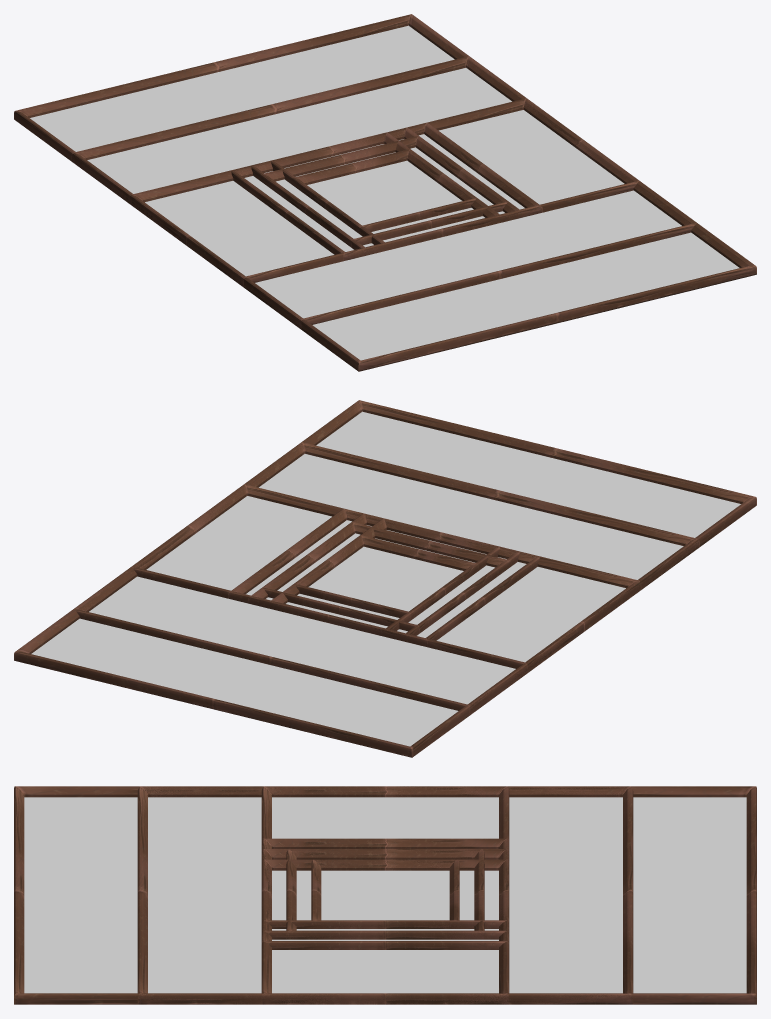
The model's file is Frames.fbx.
The picture shows the model from 3 angles, top to bottom: view 1: azimuth 30°, elevation 25°; view 2: azimuth 150°, elevation 25°; view 3: azimuth 270°, elevation 25°; orthographic projection. The views are drawn at different scales.
Parts seen in each view (by area): view 1: Image_7, Image_8, Image_6, Frame_Wooden_8, Frame_Wooden_7, Frame_Wooden_6, Frame_Wooden_1, Frame_Wooden_4, Frame_Wooden_5, Frame_Wooden_2, Frame_Wooden_3, Image_4 (+1 smaller); view 2: Image_8, Image_7, Image_6, Frame_Wooden_8, Frame_Wooden_7, Frame_Wooden_6, Frame_Wooden_1, Image_5, Frame_Wooden_4, Frame_Wooden_2, Frame_Wooden_5, Frame_Wooden_3; view 3: Image_8, Image_7, Frame_Wooden_8, Frame_Wooden_7, Image_6, Frame_Wooden_6, Frame_Wooden_1, Frame_Wooden_2, Frame_Wooden_3, Image_5, Frame_Wooden_4, Image_3 (+2 smaller).
Part boxes in pixels (x1,y1,x2,y2): Image_7: (91,68,681,318); Image_8: (30,25,739,360); Image_6: (158,110,624,276); Frame_Wooden_8: (14,14,756,371); Frame_Wooden_7: (71,56,696,329); Frame_Wooden_6: (129,98,639,287); Frame_Wooden_1: (231,122,542,261); Frame_Wooden_4: (260,136,508,247); Frame_Wooden_5: (291,149,477,234); Frame_Wooden_2: (251,127,521,255); Frame_Wooden_3: (271,132,500,244); Image_4: (276,148,493,234); Image_8: (31,411,740,746); Image_7: (89,454,683,702); Image_6: (151,496,625,662); Frame_Wooden_8: (14,400,756,757); Frame_Wooden_7: (74,442,699,714); Frame_Wooden_6: (131,484,641,672); Frame_Wooden_1: (228,508,539,647); Image_5: (310,547,463,611); Frame_Wooden_4: (263,522,510,633); Frame_Wooden_2: (248,513,519,642); Frame_Wooden_5: (294,535,476,619); Frame_Wooden_3: (270,518,499,630); Image_8: (24,797,746,993); Image_7: (148,797,622,993); Frame_Wooden_8: (14,786,756,1004); Frame_Wooden_7: (137,786,633,1004); Image_6: (272,797,498,993); Frame_Wooden_6: (261,786,509,1004); Frame_Wooden_1: (261,838,509,949); Frame_Wooden_2: (261,849,509,939); Frame_Wooden_3: (264,859,509,928); Image_5: (321,870,449,920); Frame_Wooden_4: (286,849,484,939); Image_3: (272,870,498,920).
Size of the model in its own units: 400 by 8.82 by 600.
